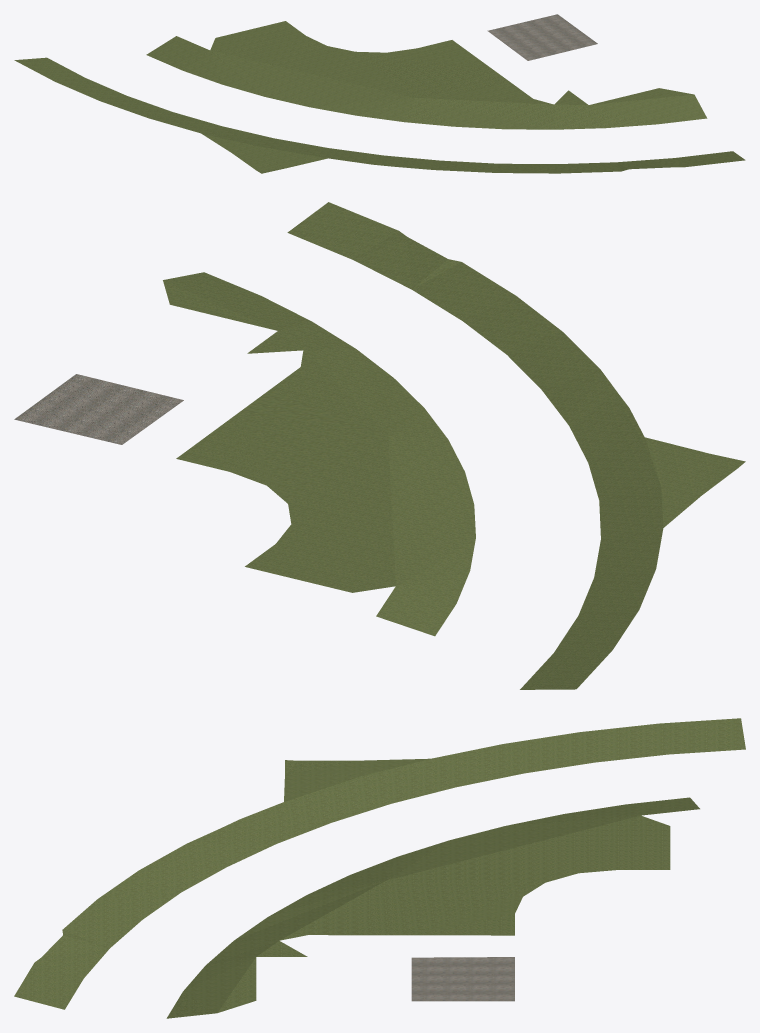
Rendered from lodeland06_lvs.obj.
3 views of the same model, one above another, from view 1: azimuth 30°, elevation 25°; view 2: azimuth 150°, elevation 25°; view 3: azimuth 270°, elevation 25° (orthographic). The views are drawn at different scales.
Visible parts, largest first — view 1: lodEland06_lvs; view 2: lodEland06_lvs; view 3: lodEland06_lvs.
Boxes of the visible parts, x1,y1,x2,y2 form: lodEland06_lvs: (14, 14, 745, 173); lodEland06_lvs: (14, 202, 745, 689); lodEland06_lvs: (14, 718, 745, 1018).
Bounding box in the file's own units: 270 × 4.42 × 283.
Materials: 2 (2 with a texture image).
